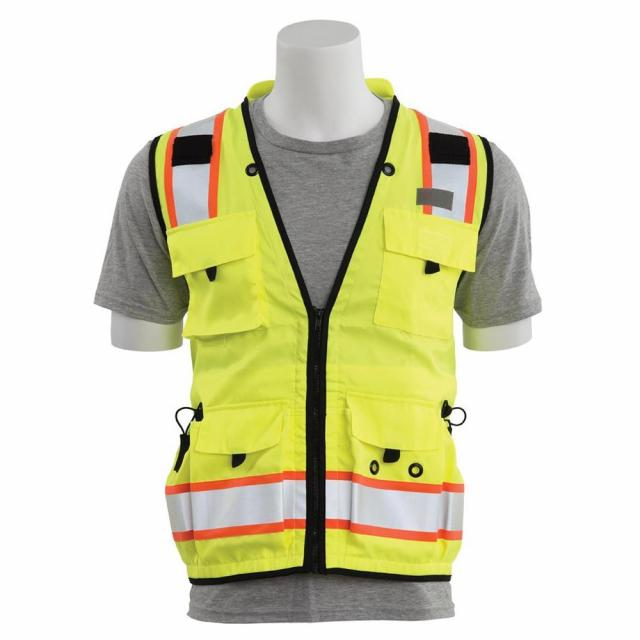Reflective-Jacket: (141, 81, 514, 602)
